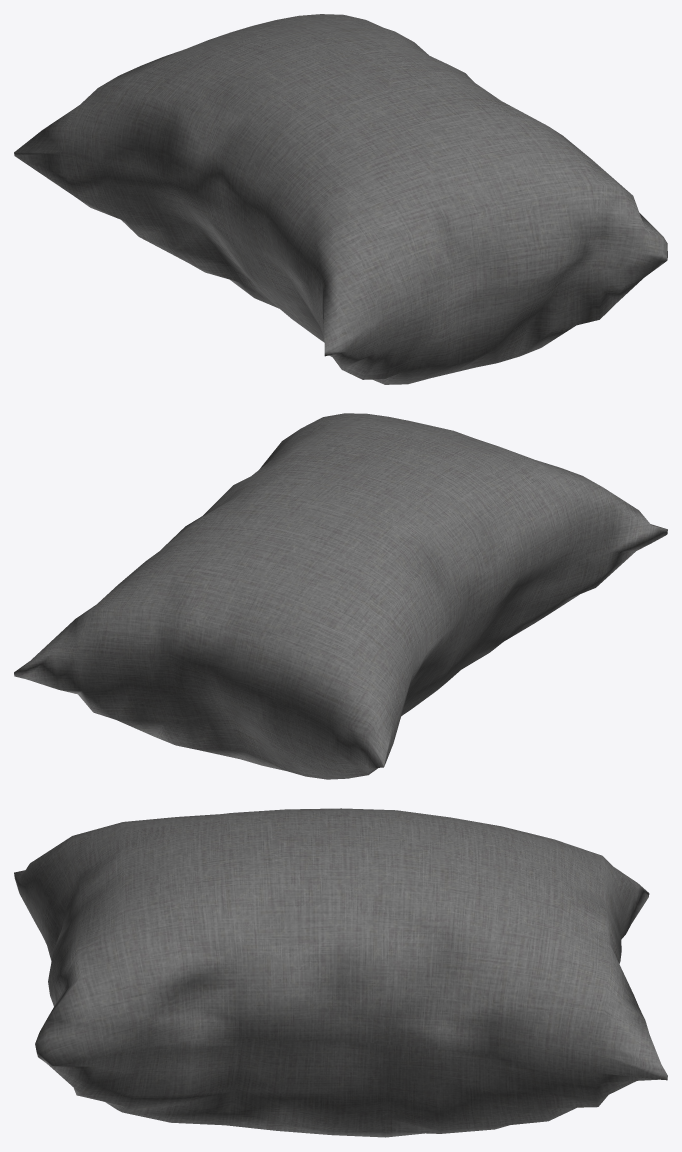
The model's file is pillow.fbx.
3 renders of one model, top to bottom at view 1: azimuth 30°, elevation 25°; view 2: azimuth 150°, elevation 25°; view 3: azimuth 270°, elevation 25°, orthographic. The views are drawn at different scales.
Visible parts, largest first — view 1: Pillow; view 2: Pillow; view 3: Pillow.
Part boxes in pixels (x1,y1,x2,y2): Pillow: [14, 14, 667, 384]; Pillow: [14, 413, 667, 779]; Pillow: [14, 808, 667, 1137].
Bounding box in the file's own units: 50.57 × 34.13 × 72.22.
